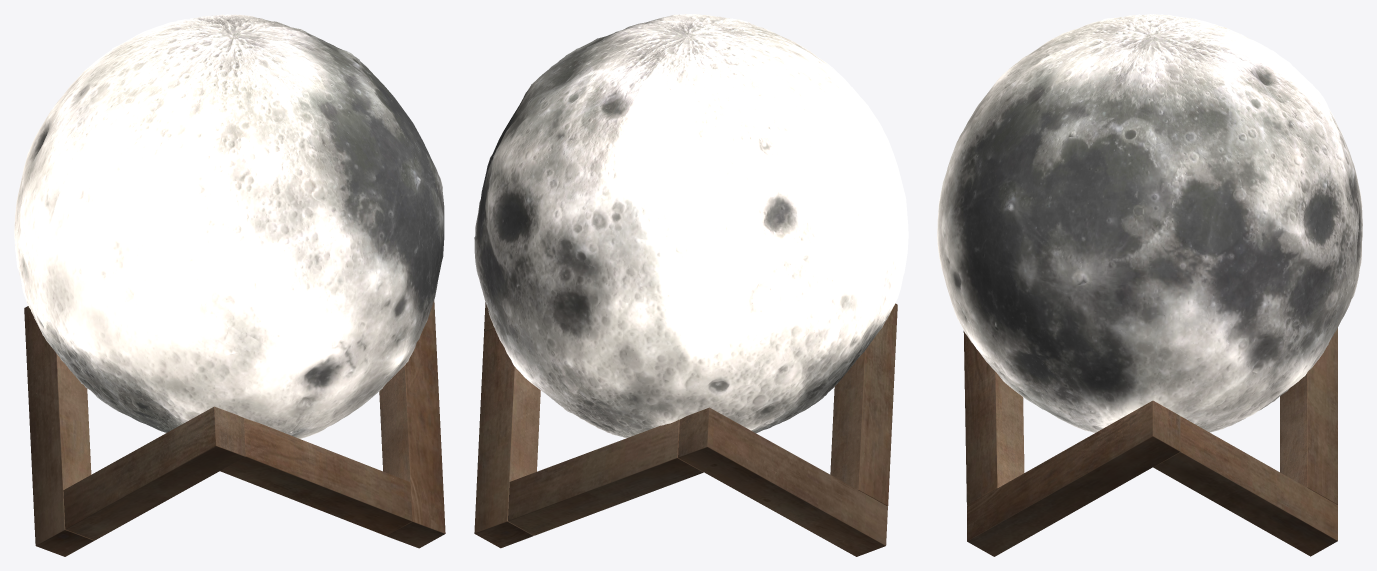
3 renders of one model, left to right at view 1: azimuth 30°, elevation 25°; view 2: azimuth 150°, elevation 25°; view 3: azimuth 270°, elevation 25°, orthographic. The views are drawn at different scales.
Visible parts, largest first — view 1: Moon, Wood_Cage; view 2: Moon, Wood_Cage; view 3: Moon, Wood_Cage.
Boxes of the visible parts, x1=… form: Moon: x1=14, y1=14, x2=444, y2=438; Wood_Cage: x1=24, y1=300, x2=445, y2=556; Moon: x1=474, y1=14, x2=908, y2=437; Wood_Cage: x1=474, y1=302, x2=897, y2=556; Moon: x1=937, y1=14, x2=1362, y2=432; Wood_Cage: x1=963, y1=328, x2=1337, y2=556.
Size of the model in its own units: 0.3331 by 0.3839 by 0.3137.
2 materials, 2 textured.
